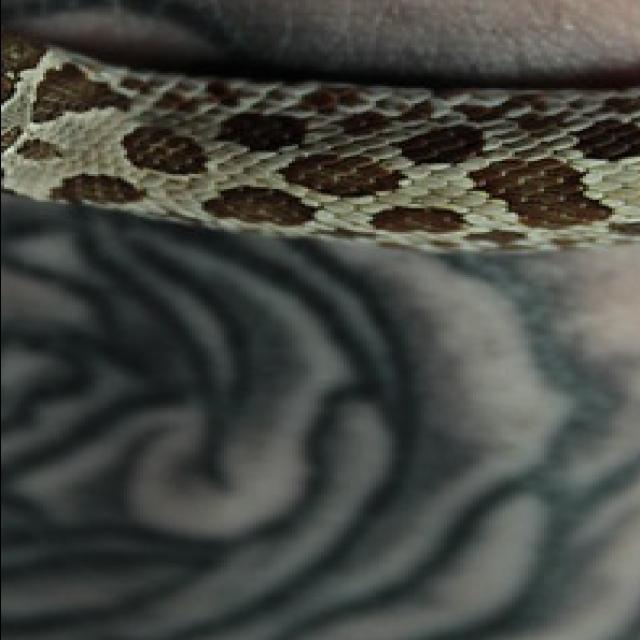Snake: (0, 11, 640, 256)
